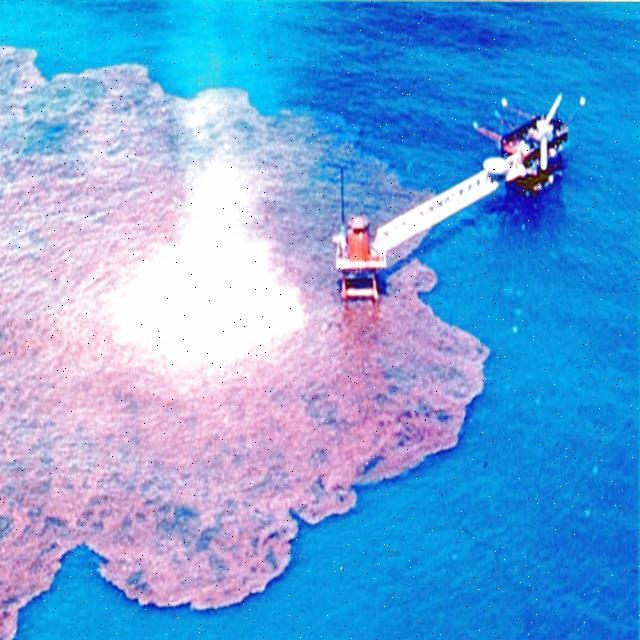oil: (0, 46, 451, 595)
